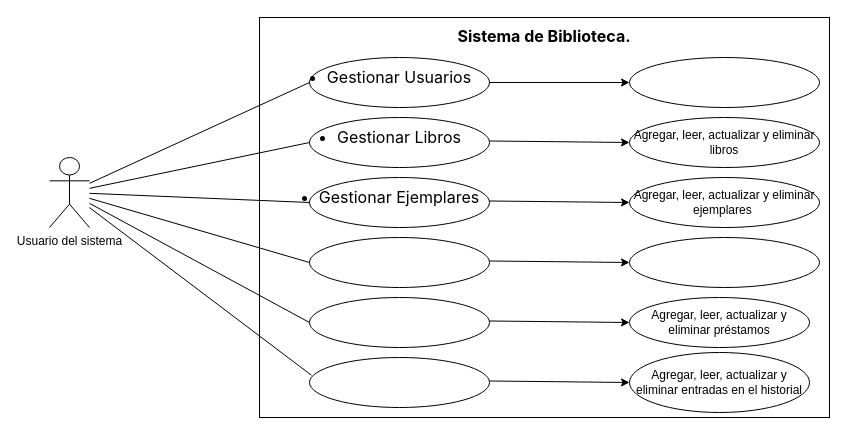
Image size: 847x443. Some labels were removed from this diagram. Here are the shapes that lost their labels. From the top down, the centre of each, then its label:
At [724,82]: "Agregar, leer, actualizar y eliminar usuarios".
At [399,262]: "Gestionar Reservas".
At [724,262]: "Agregar, leer, actualizar y eliminar reservas".
At [399,322]: "Gestionar Préstamos".
At [399,382]: "Gestionar Historial".
